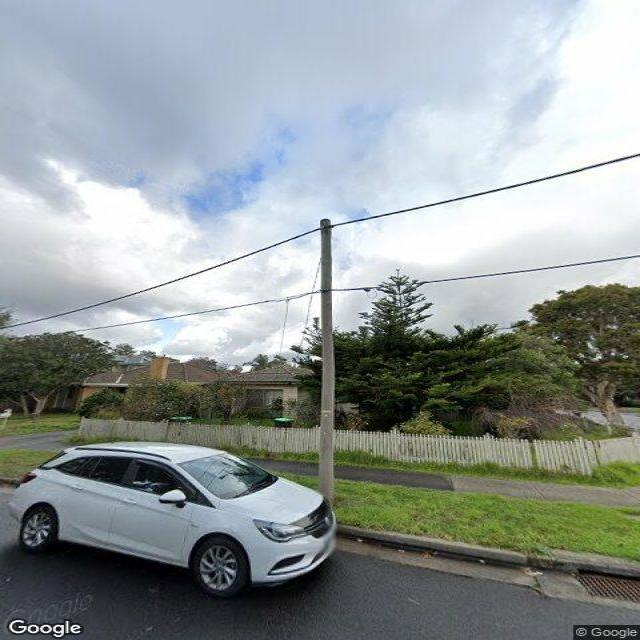timber-pole: (318, 218, 334, 509)
